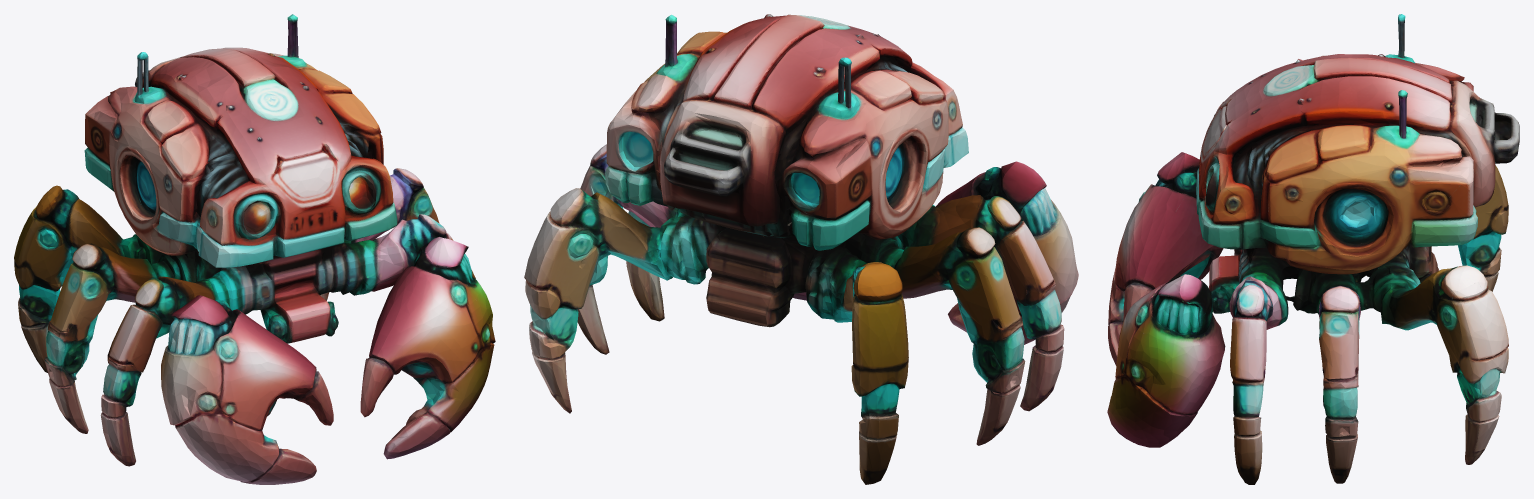
Rendered from crab_1.glb.
The picture shows the model from 3 angles, left to right: view 1: azimuth 30°, elevation 25°; view 2: azimuth 150°, elevation 25°; view 3: azimuth 270°, elevation 25°; orthographic projection. The views are drawn at different scales.
Visible parts, largest first — view 1: world; view 2: world; view 3: world.
Part boxes in pixels (x1,y1,x2,y2): world: (14,14,495,484); world: (524,14,1078,484); world: (1107,14,1519,484).
Size of the model in its own units: 0.9406 by 0.7753 by 0.8232.
1 material, 1 textured.
